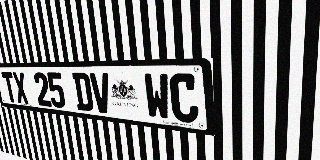2: (33, 72, 52, 107)
5: (46, 72, 67, 109)
C: (169, 73, 199, 124)
D: (72, 73, 94, 112)
T: (1, 72, 18, 103)
V: (89, 73, 113, 114)
W: (143, 73, 171, 121)
X: (12, 72, 29, 104)
